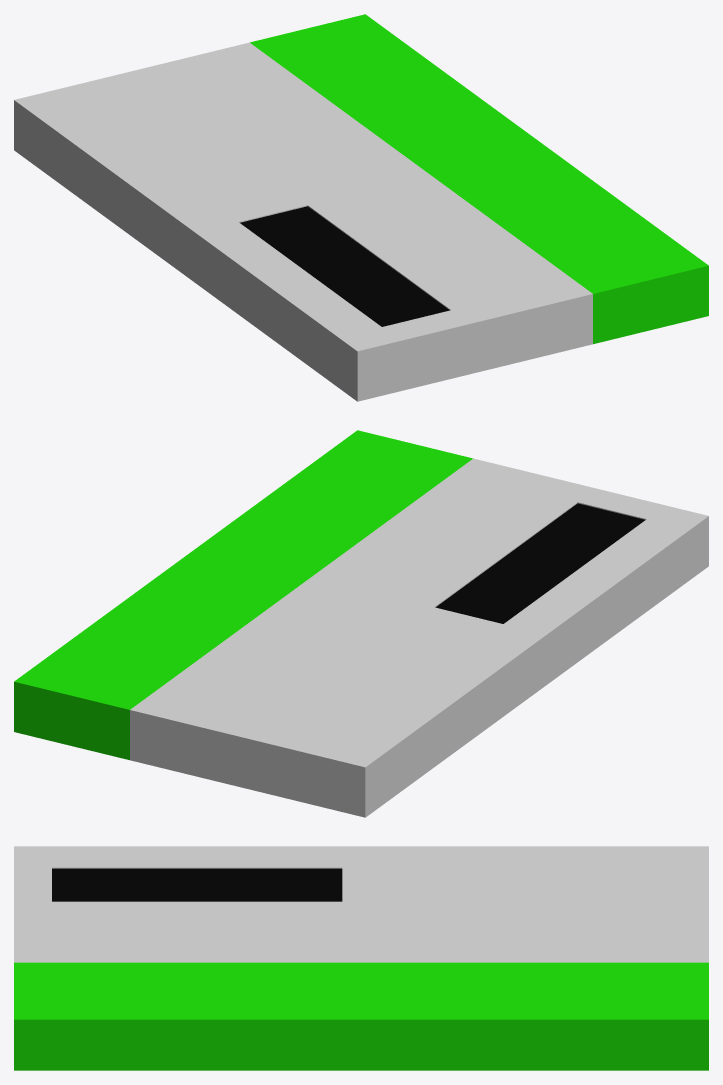
File: green_card.glb
The picture shows the model from 3 angles, top to bottom: view 1: azimuth 30°, elevation 25°; view 2: azimuth 150°, elevation 25°; view 3: azimuth 270°, elevation 25°; orthographic projection.
Visible parts, largest first — view 1: Cube-col; view 2: Cube-col; view 3: Cube-col.
Part boxes in pixels (x1,y1,x2,y2): Cube-col: [14, 14, 708, 401]; Cube-col: [14, 430, 708, 817]; Cube-col: [14, 846, 708, 1070].
Bounding box in the file's own units: 0.95 × 0.13 × 1.61.
